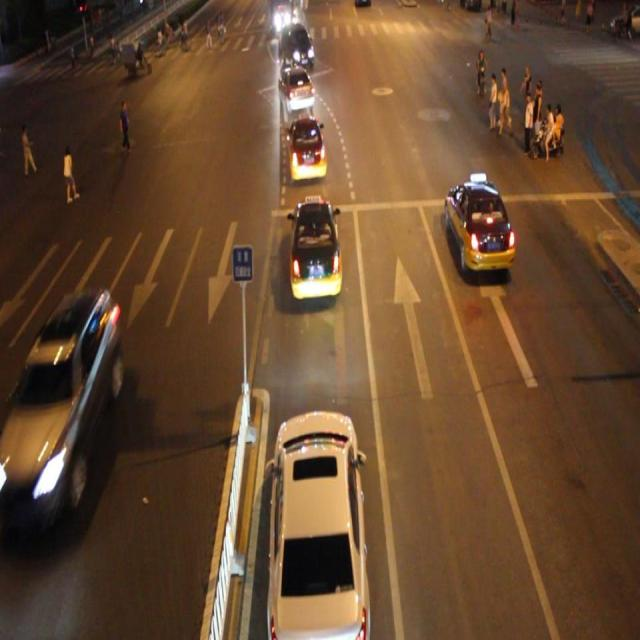car: (12, 285, 130, 529), (265, 409, 370, 640), (445, 179, 513, 271), (288, 197, 342, 298), (287, 115, 326, 181), (277, 21, 314, 68), (278, 67, 314, 113)
